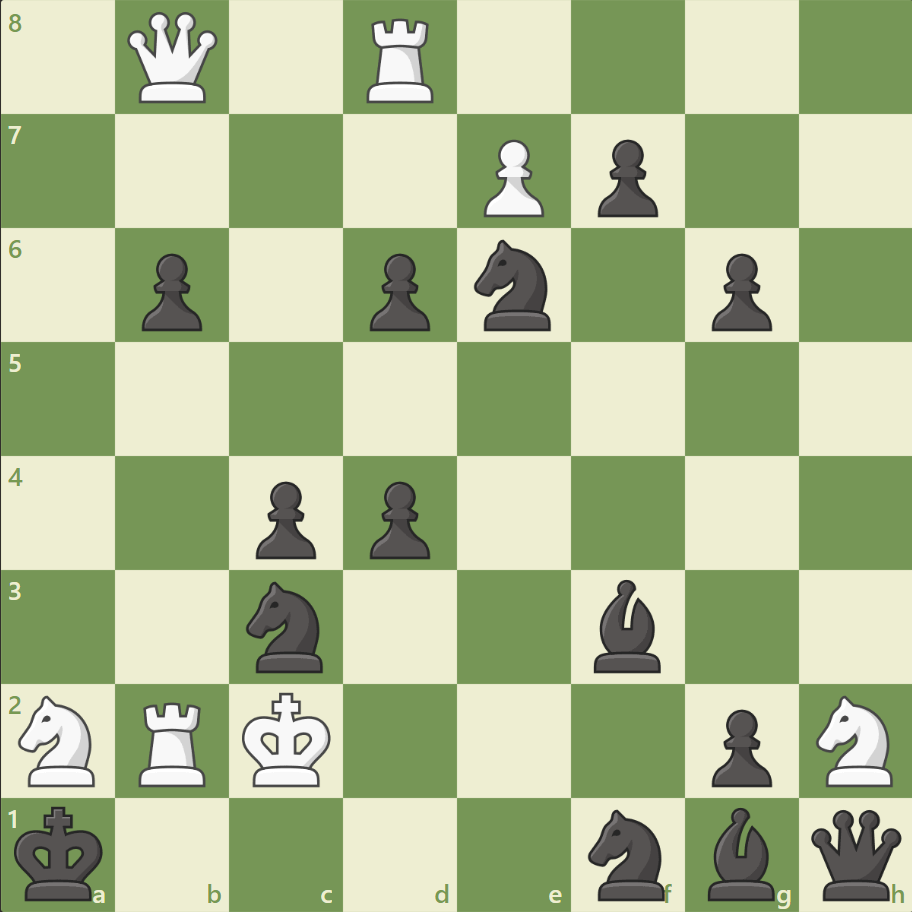K: (238, 685, 338, 793)
N: (11, 688, 108, 791), (806, 688, 903, 791)
P: (474, 132, 549, 223)
Q: (124, 9, 223, 108)
R: (360, 12, 442, 109), (133, 693, 215, 790)
b: (698, 801, 782, 904), (585, 574, 669, 676)
k: (11, 798, 111, 906)
n: (465, 234, 562, 337), (238, 575, 335, 677), (579, 802, 676, 904)
p: (133, 246, 208, 337), (701, 246, 776, 337), (247, 473, 322, 564), (701, 700, 776, 791), (588, 132, 662, 223), (361, 246, 435, 337), (361, 473, 435, 564)
q: (805, 804, 904, 903)
